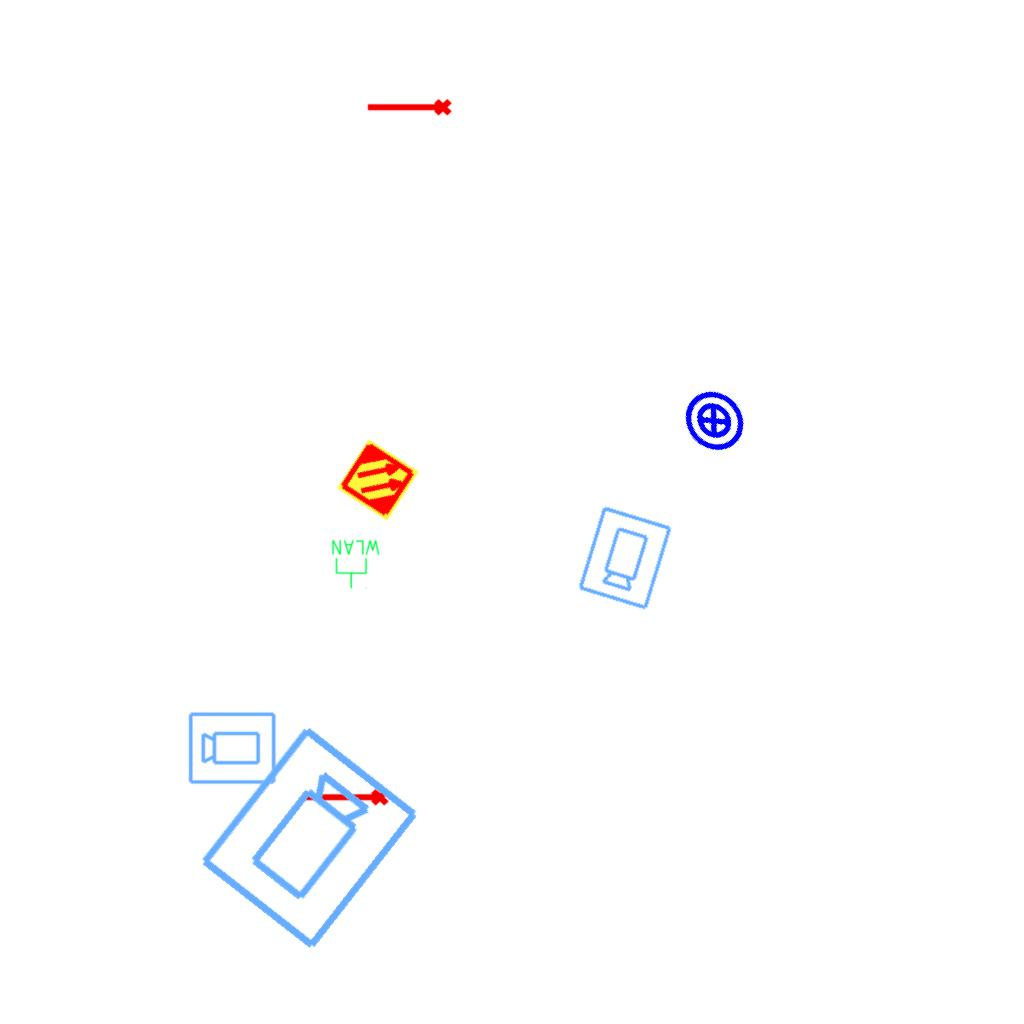ASR_Ansaugoeffnung: (365, 97, 453, 120), (302, 787, 390, 810)
ASR_Ansaugrauchmelder: (335, 437, 421, 523)
KFO_Kamera_mit_Festobjektiv: (193, 719, 427, 959), (574, 502, 675, 613), (187, 709, 278, 786)
Taster_beleuchtet: (667, 374, 761, 468)
WLAN: (330, 538, 382, 590)
